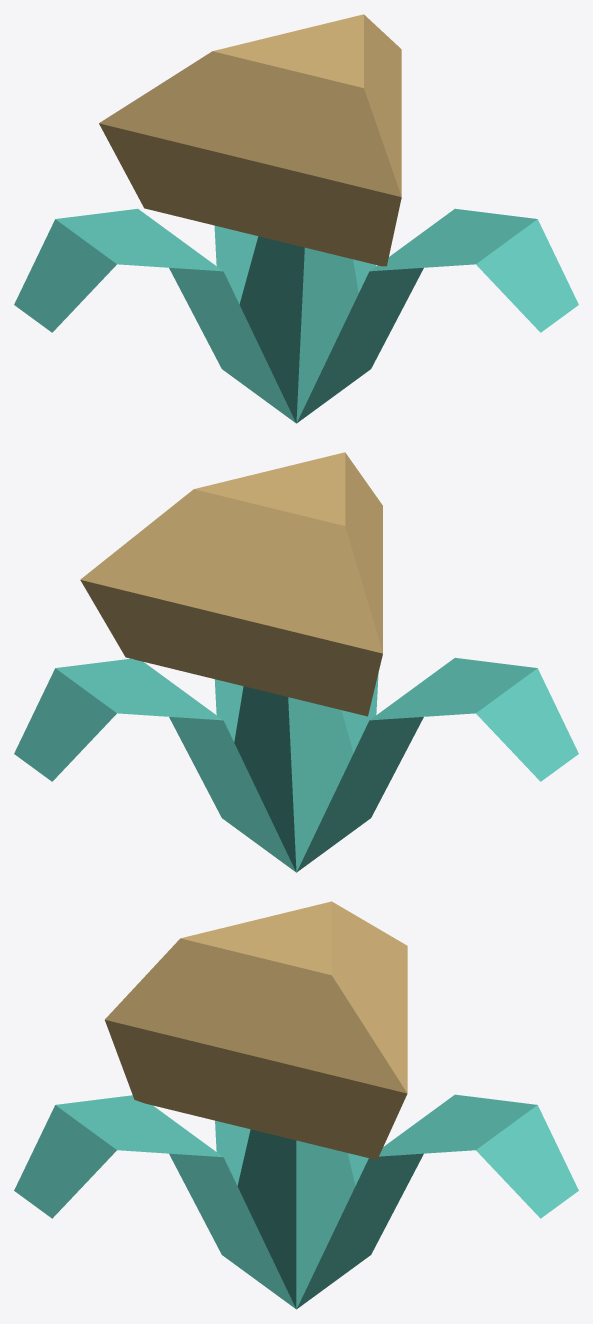
The model's file is flower_yellowB.glb.
The picture shows the model from 3 angles, top to bottom: view 1: azimuth 30°, elevation 25°; view 2: azimuth 150°, elevation 25°; view 3: azimuth 270°, elevation 25°; orthographic projection.
Parts seen in each view (by area): view 1: flower_yellowB; view 2: flower_yellowB; view 3: flower_yellowB.
Part boxes in pixels (x1=…): flower_yellowB: x1=14, y1=14, x2=578, y2=423; flower_yellowB: x1=14, y1=452, x2=578, y2=872; flower_yellowB: x1=14, y1=901, x2=578, y2=1309.
Bounding box in the file's own units: 0.2073 × 0.1585 × 0.2392.
